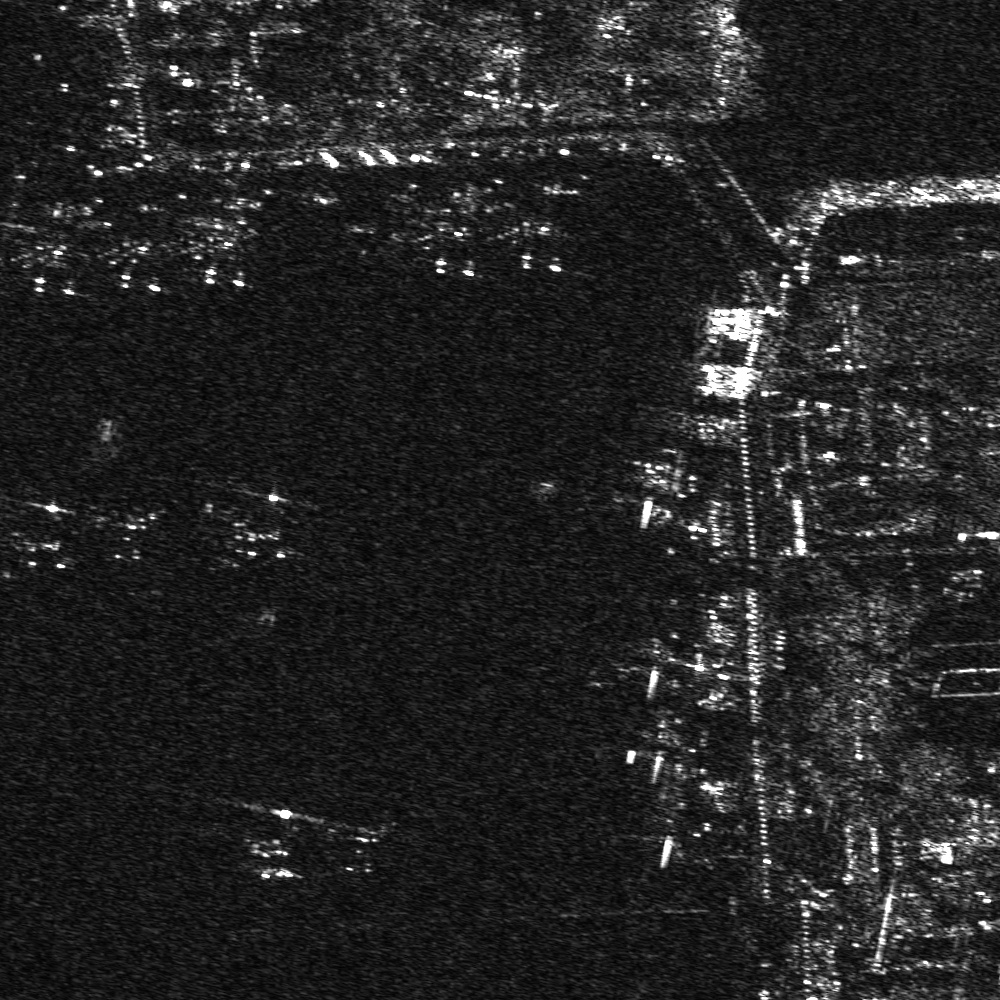A220: (328, 815, 393, 876)
ARJ21: (409, 192, 475, 279)
Boeing737: (489, 181, 580, 276), (7, 206, 91, 296), (97, 202, 176, 293)
other: (216, 795, 326, 888), (205, 479, 304, 564), (179, 196, 262, 291), (93, 495, 179, 568)
